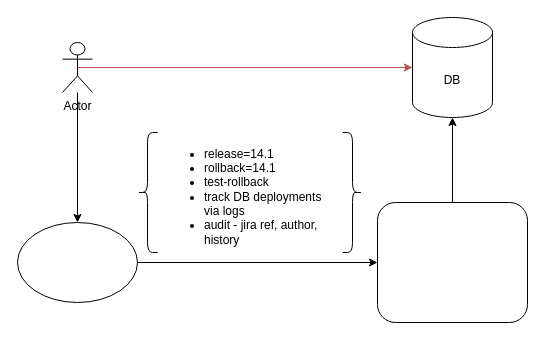
Image size: 545x340. Some labels were removed from this diagram. Here are the shapes that lost their labels. From the top down, the centre of each, then its label:
the point at 77,262: Teamcity/Gitlab
the point at 452,262: Script + Java + Liquibase
